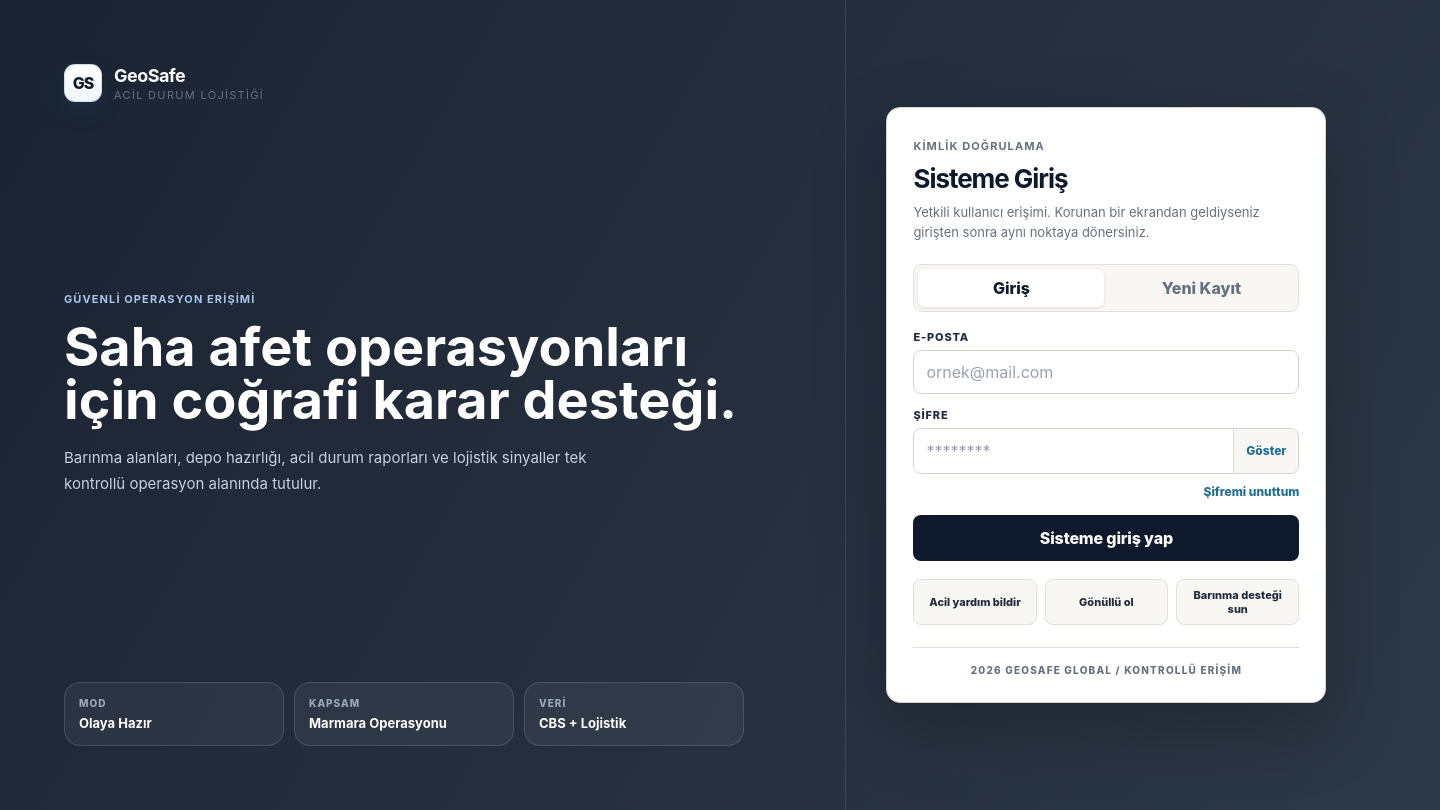
Test: LoginPage › shows the 'forgot password' info message when the button is clicked
Step 1. Click the button "Şifremi unuttum" → (1251, 491), box [1204,484,1299,499]
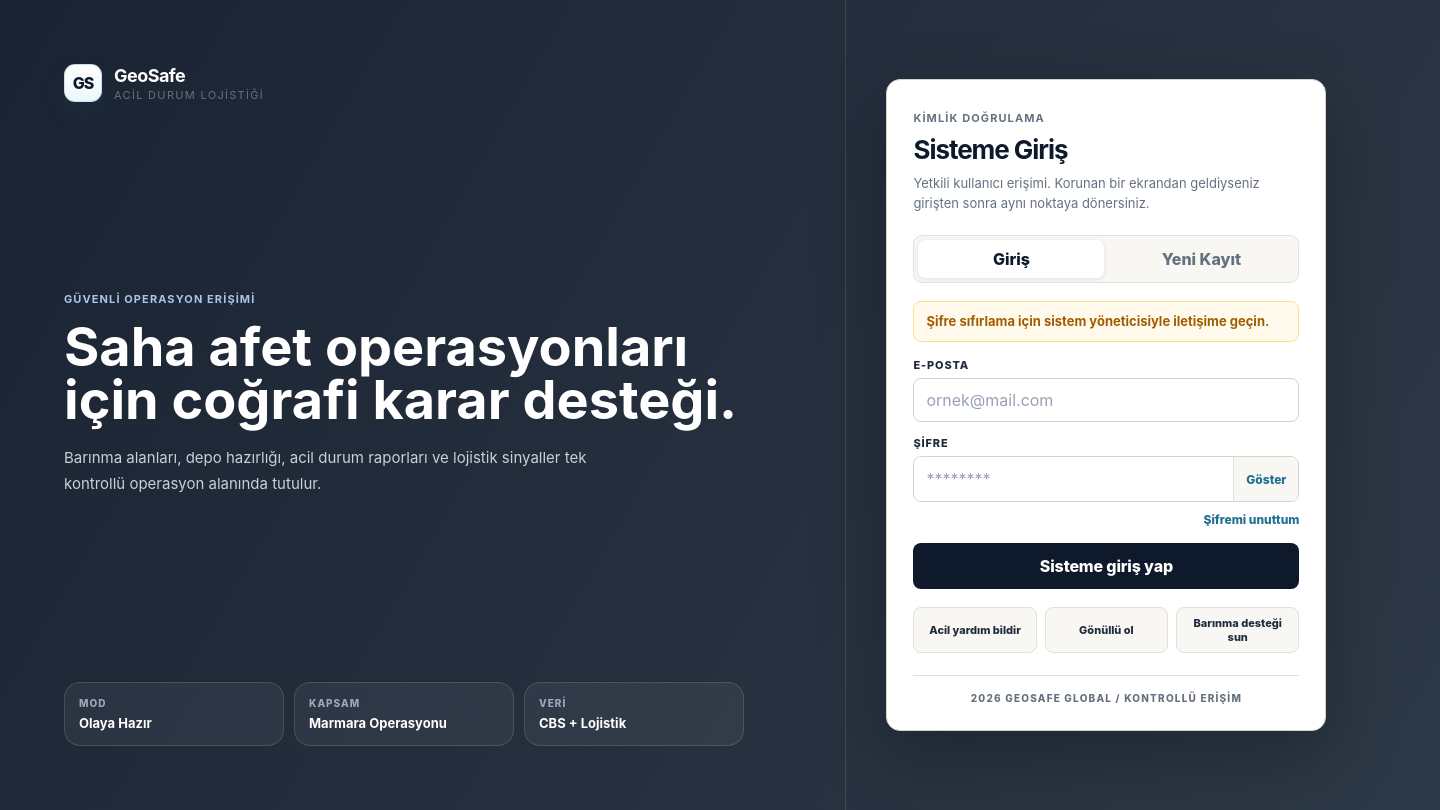
expect the text "sistem yöneticisiyle iletişime geçin" is shown: met, box [926,313,1269,329]
